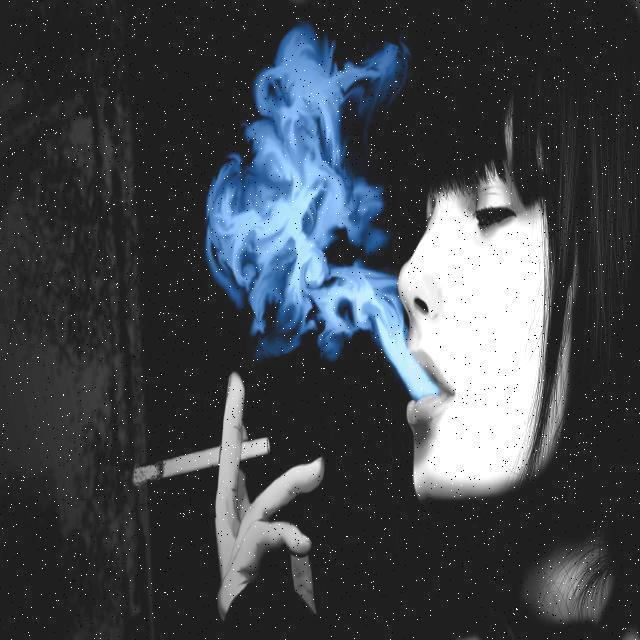smoke: (217, 101, 384, 347)
